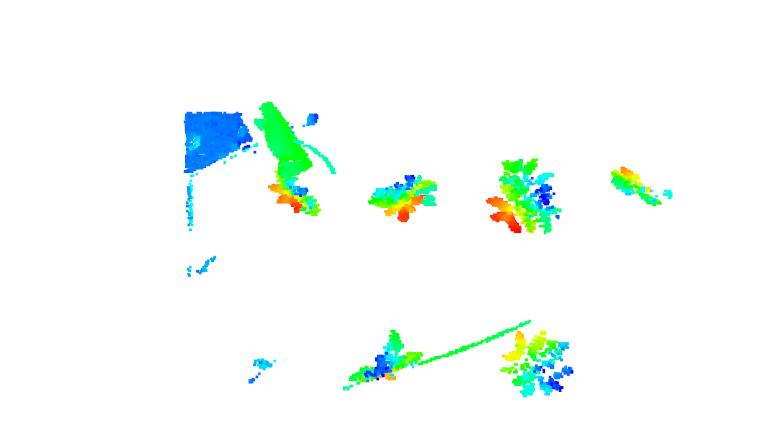chickpea: (485, 156, 562, 236), (499, 328, 575, 395), (344, 329, 423, 381), (367, 173, 438, 222), (265, 176, 322, 219), (607, 165, 663, 206)
